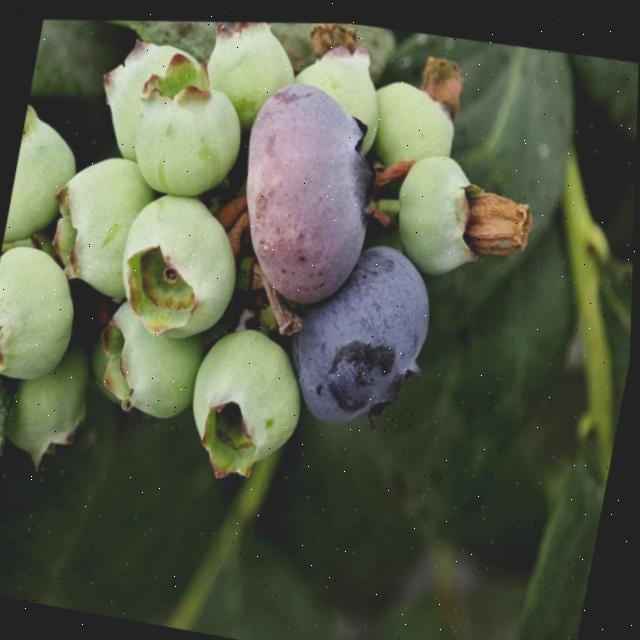Semi-RipeBlueBerry: (215, 63, 406, 323)
UnripeBlueBerry: (102, 171, 260, 349), (175, 310, 325, 489), (120, 38, 266, 206), (0, 224, 96, 388)
